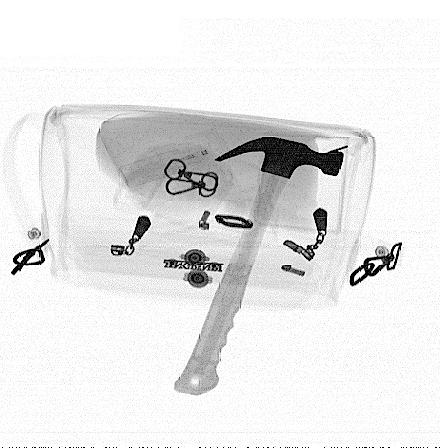Hammer: (174, 136, 345, 397)
